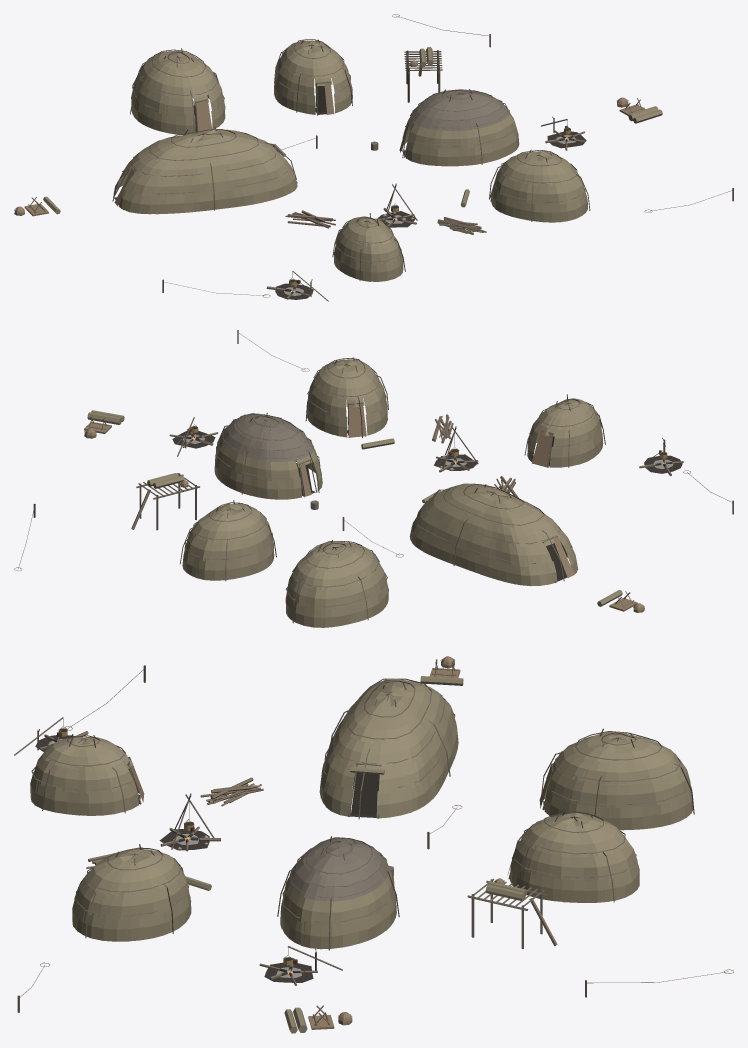
The model's file is potawatomi_camp_1812_far_west__camp_1812.glb.
3 views of the same model, one above another, from view 1: azimuth 30°, elevation 25°; view 2: azimuth 150°, elevation 25°; view 3: azimuth 270°, elevation 25° (orthographic). The views are drawn at different scales.
Visible parts, largest first — view 1: potawatomi_camp_1812_far_west__camp_1812; view 2: potawatomi_camp_1812_far_west__camp_1812; view 3: potawatomi_camp_1812_far_west__camp_1812.
Part boxes in pixels (<box>): potawatomi_camp_1812_far_west__camp_1812: <box>14,14,733,301</box>; potawatomi_camp_1812_far_west__camp_1812: <box>14,330,733,627</box>; potawatomi_camp_1812_far_west__camp_1812: <box>14,656,733,1033</box>.
Size of the model in its own units: 31.11 by 3.08 by 25.47.
